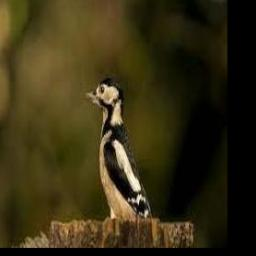Woodpecker: (84, 78, 152, 219)
